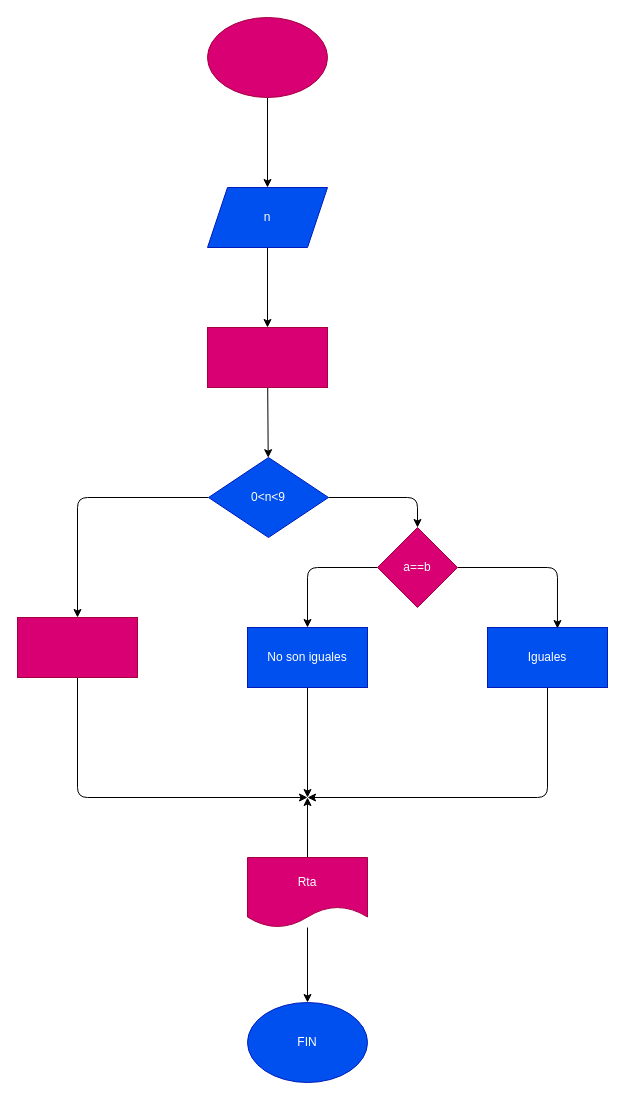
Some shapes in this 625 by 1100 pixel diagram are drawn without their labels. Each missing label, with the centre of its shape:
"a=n%10 b=n//10 c=b%10" belongs at [267,357].
"el numero no tiene las cifras adecuadas" belongs at [77,647].
"INICIO" belongs at [267,57].
